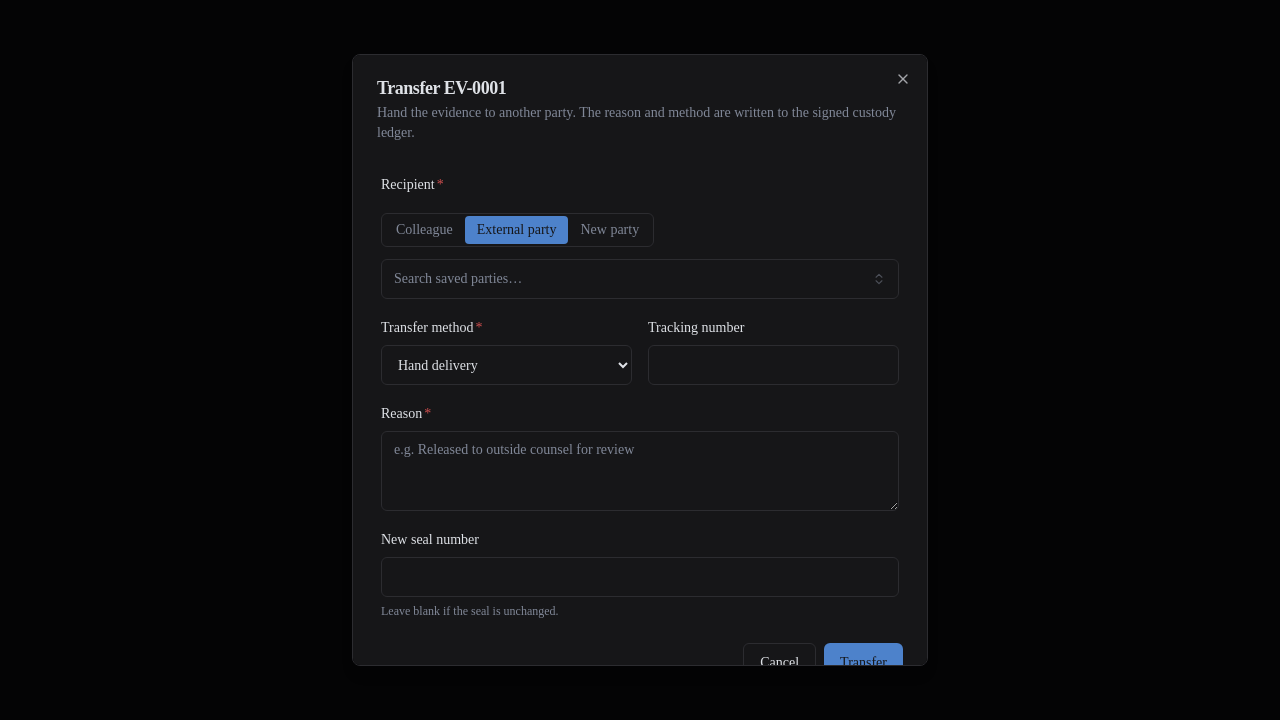
Test case: CustodyActionDialog: transfer › requires a recipient, a reason and a method before anything is sent
This screenshot has width=1280, height=720.
Select "Choose…" in the dropdown labelled "Transfer method*" at (506, 365), box [381, 345, 632, 385]
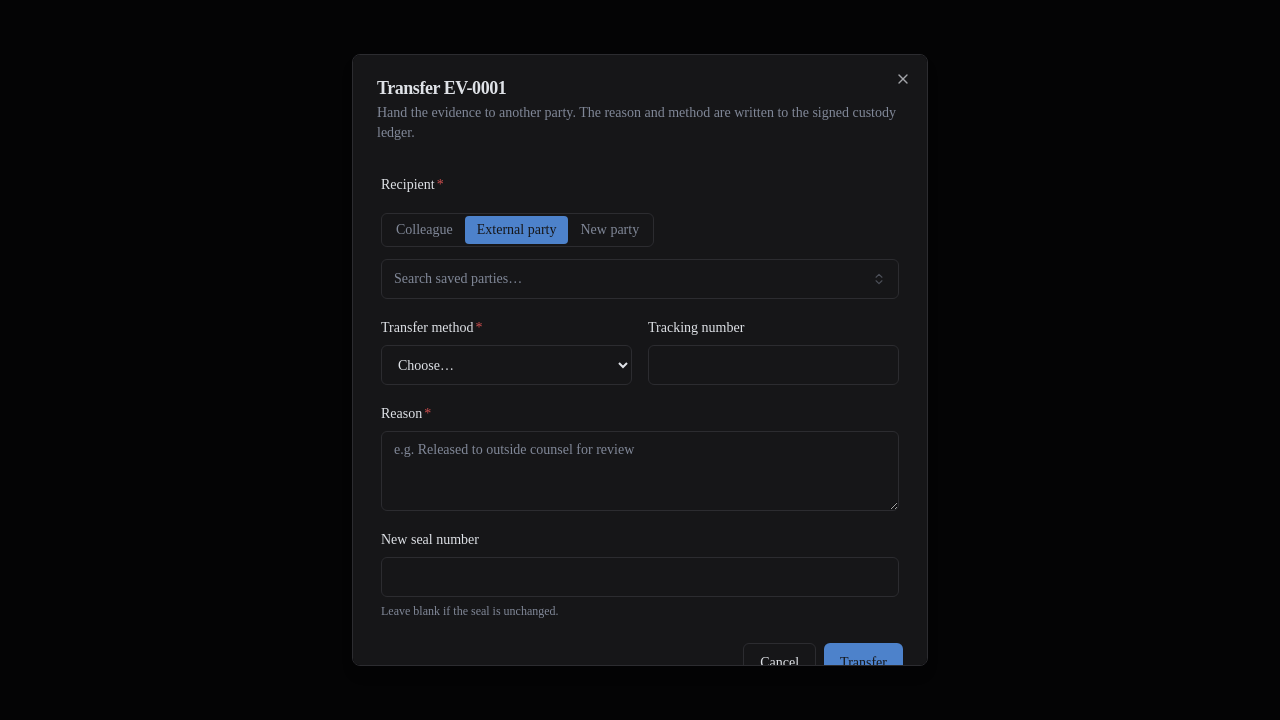
Click the button "Transfer".
click(864, 663)  # box [824, 643, 903, 683]
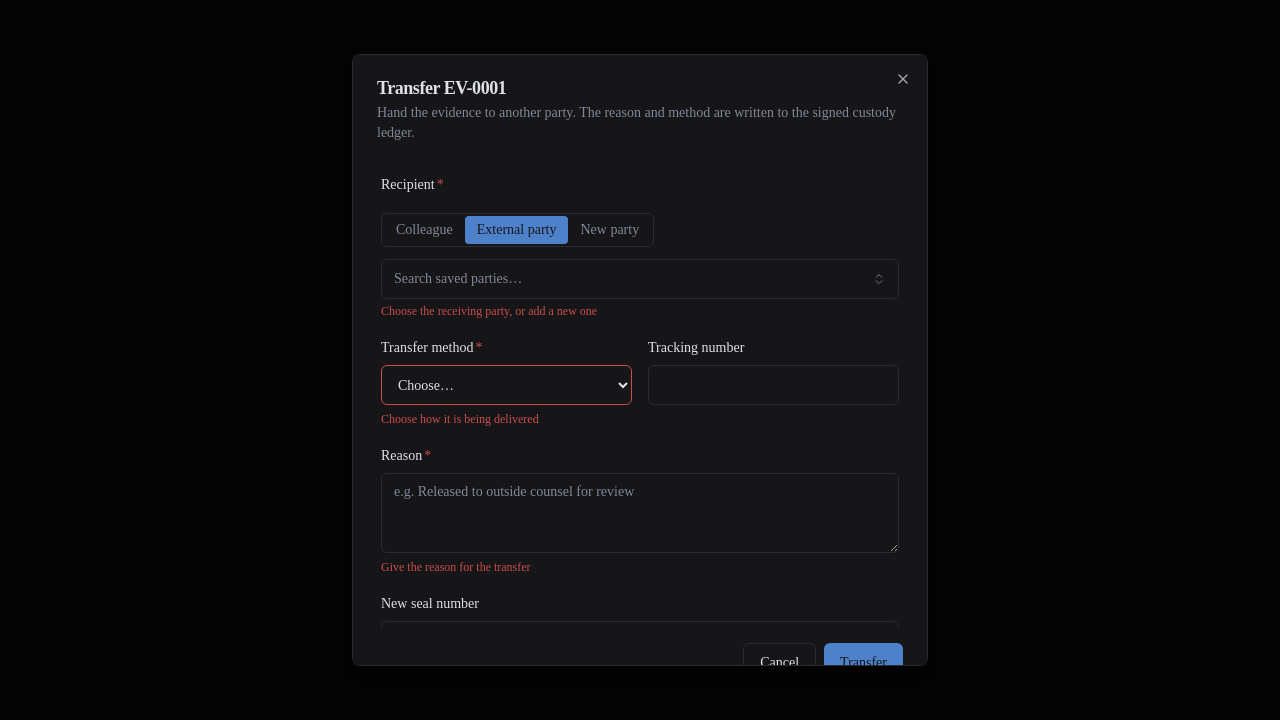
Check: the text "Choose the receiving party, or add a new one" is shown, box [381, 304, 597, 318]
Check: the text "Give the reason for the transfer" is shown, box [381, 560, 531, 574]
Check: the text "Choose how it is being delivered" is shown, box [381, 412, 539, 426]
